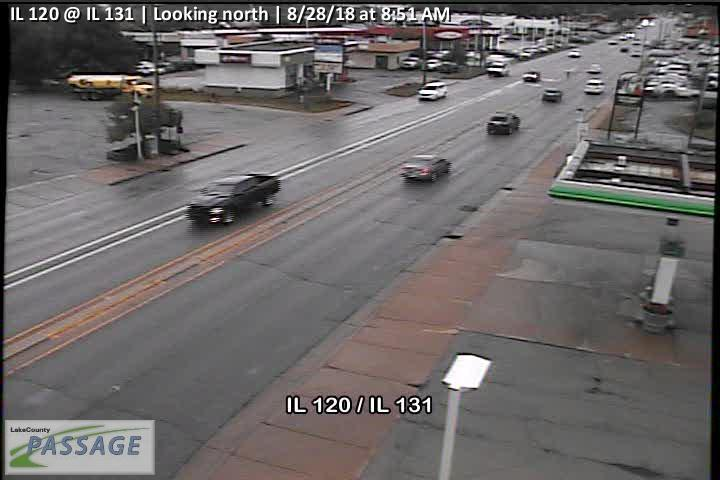SUV: (418, 81, 448, 100), (485, 60, 510, 77), (584, 79, 607, 94), (542, 87, 562, 103)
Sedan: (399, 153, 451, 184), (488, 110, 520, 136), (522, 70, 541, 82)
Truck: (187, 171, 280, 228)
